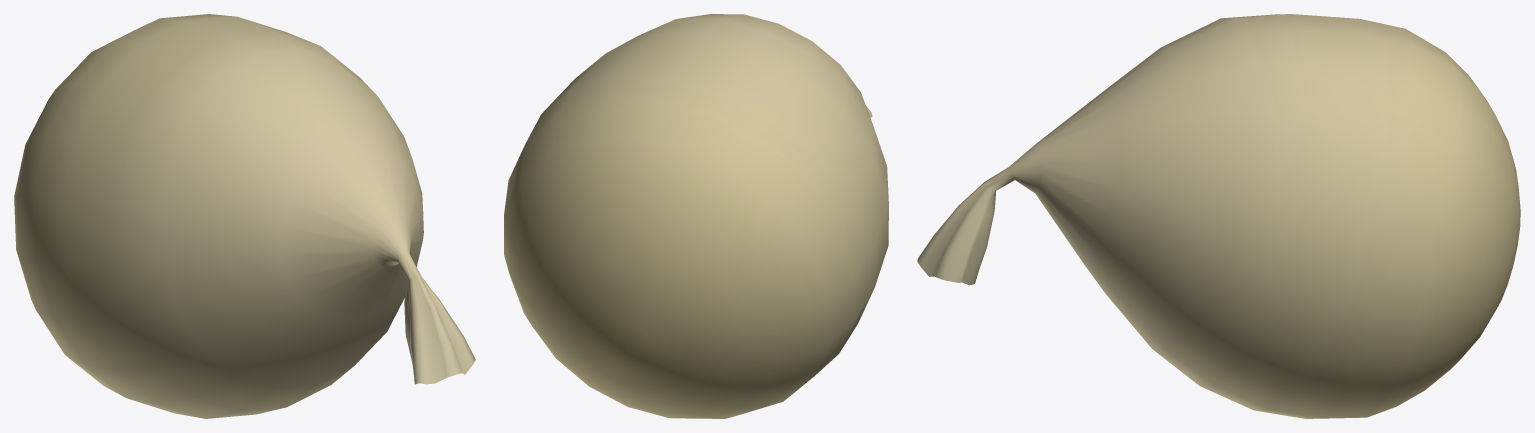
File: bag02.fbx
3 views of the same model, side by side, from view 1: azimuth 30°, elevation 25°; view 2: azimuth 150°, elevation 25°; view 3: azimuth 270°, elevation 25° (orthographic). The views are drawn at different scales.
Visible parts, largest first — view 1: bag2; view 2: bag2; view 3: bag2.
Part boxes in pixels (bbox=[...]): bag2: bbox=[14, 14, 475, 418]; bag2: bbox=[504, 14, 888, 418]; bag2: bbox=[917, 14, 1520, 418].
Size of the model in its own units: 253 by 261 by 380.
